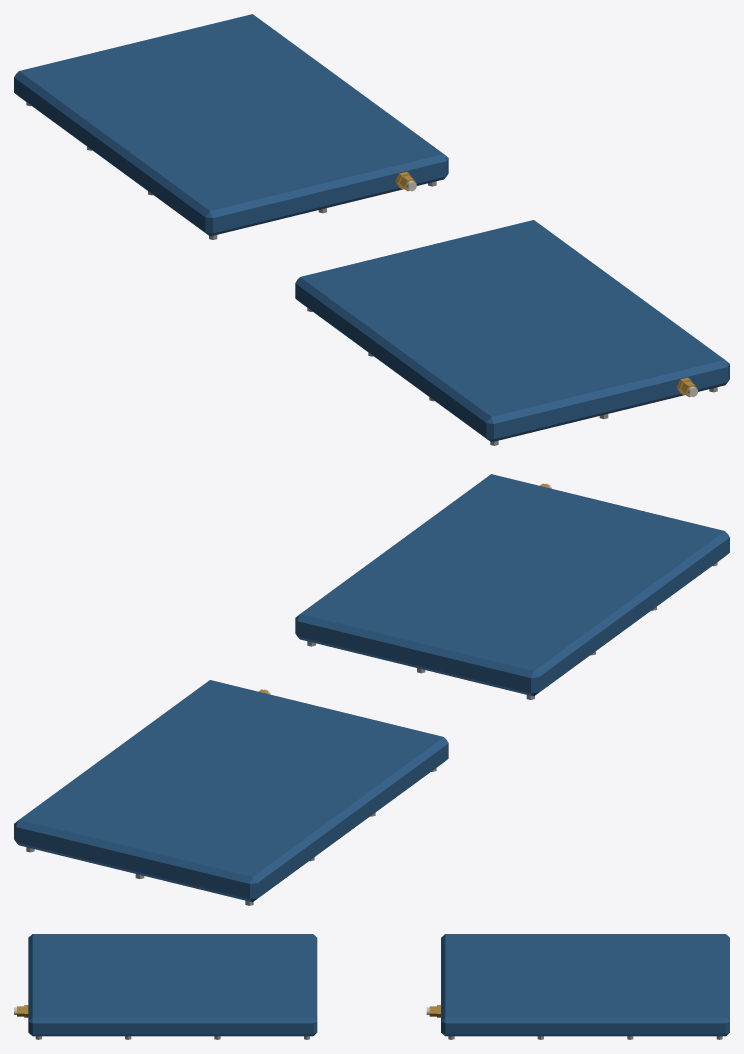
Rendered from boat20_battery.obj.
3 renders of one model, top to bottom at view 1: azimuth 30°, elevation 25°; view 2: azimuth 150°, elevation 25°; view 3: azimuth 270°, elevation 25°, orthographic. The views are drawn at different scales.
Parts seen in each view (by area): view 1: boat20_battery; view 2: boat20_battery; view 3: boat20_battery.
Part boxes in pixels (left/top/right/bottom): boat20_battery: left=14, top=14, right=729, bottom=445; boat20_battery: left=14, top=474, right=729, bottom=905; boat20_battery: left=14, top=934, right=729, bottom=1039.
Size of the model in its own units: 1 by 0.125 by 3.47.
